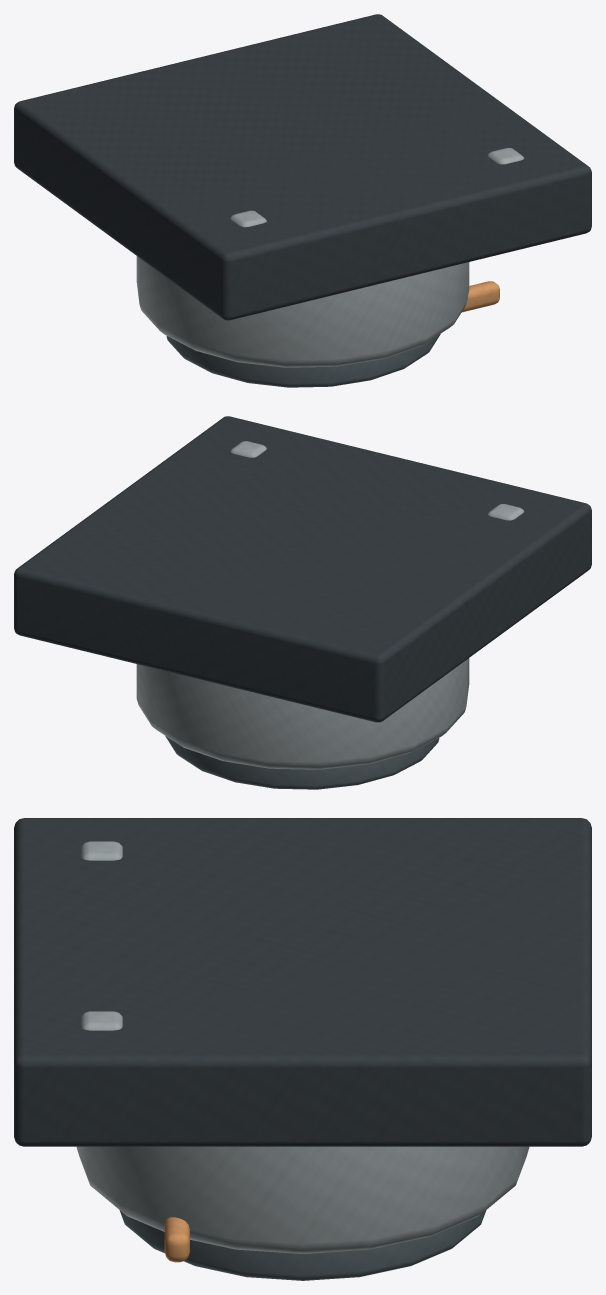
The model's file is CeilingSpeaker.fbx.
3 views of the same model, one above another, from view 1: azimuth 30°, elevation 25°; view 2: azimuth 150°, elevation 25°; view 3: azimuth 270°, elevation 25° (orthographic). The views are drawn at different scales.
Parts seen in each view (by area): view 1: CeilingSpeaker_Mesh; view 2: CeilingSpeaker_Mesh; view 3: CeilingSpeaker_Mesh.
Part boxes in pixels (left/top/right/bottom): CeilingSpeaker_Mesh: left=14, top=14, right=591, bottom=387; CeilingSpeaker_Mesh: left=14, top=416, right=591, bottom=789; CeilingSpeaker_Mesh: left=14, top=818, right=591, bottom=1280.
Size of the model in its own units: 46 by 26.65 by 46.
Materials: 5 (5 with a texture image).
